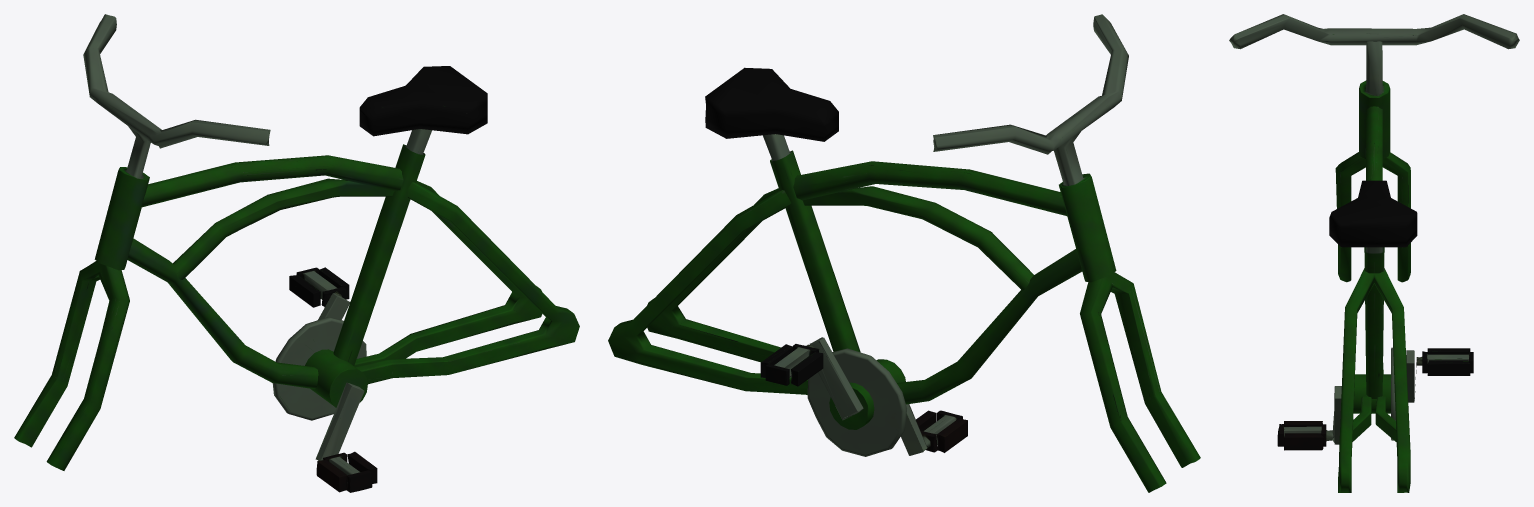
Rendered from bicicleta.glb.
3 views of the same model, side by side, from view 1: azimuth 30°, elevation 25°; view 2: azimuth 150°, elevation 25°; view 3: azimuth 270°, elevation 25° (orthographic). The views are drawn at different scales.
Visible parts, largest first — view 1: geometry_0; view 2: geometry_0; view 3: geometry_0.
Part boxes in pixels (left/top/right/bottom): geometry_0: left=14, top=14, right=579, bottom=492; geometry_0: left=608, top=14, right=1200, bottom=492; geometry_0: left=1229, top=14, right=1519, bottom=492.
Size of the model in its own units: 0.9541 by 0.7026 by 0.5181.
1 material, 1 textured.
